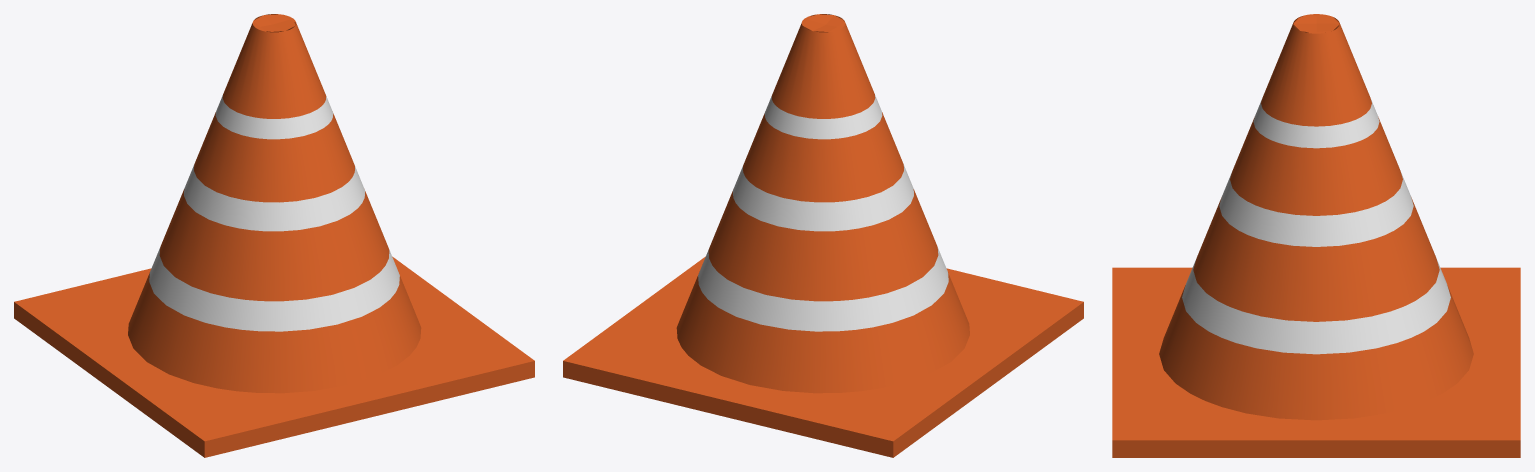
The model's file is coneTransito.fbx.
3 views of the same model, side by side, from view 1: azimuth 30°, elevation 25°; view 2: azimuth 150°, elevation 25°; view 3: azimuth 270°, elevation 25° (orthographic). The views are drawn at different scales.
Parts seen in each view (by area): view 1: Cube; view 2: Cube; view 3: Cube.
Part boxes in pixels (box(x1,y1,x2,y2)): Cube: box(14, 14, 534, 457); Cube: box(563, 14, 1083, 457); Cube: box(1112, 14, 1520, 457).
Size of the model in its own units: 200 by 188 by 200.
